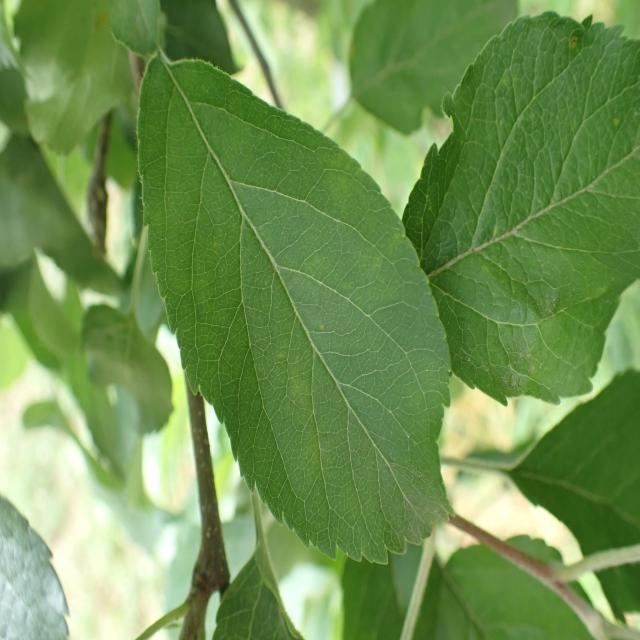healthy: (137, 52, 453, 566), (402, 9, 640, 408), (0, 495, 70, 640)
